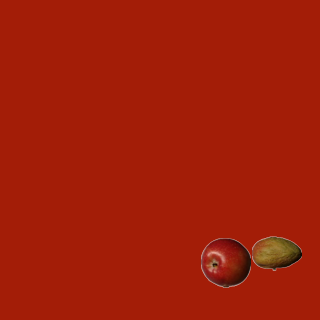Apple Braeburn: (200, 237, 250, 287)
Papaya: (251, 228, 301, 278)
